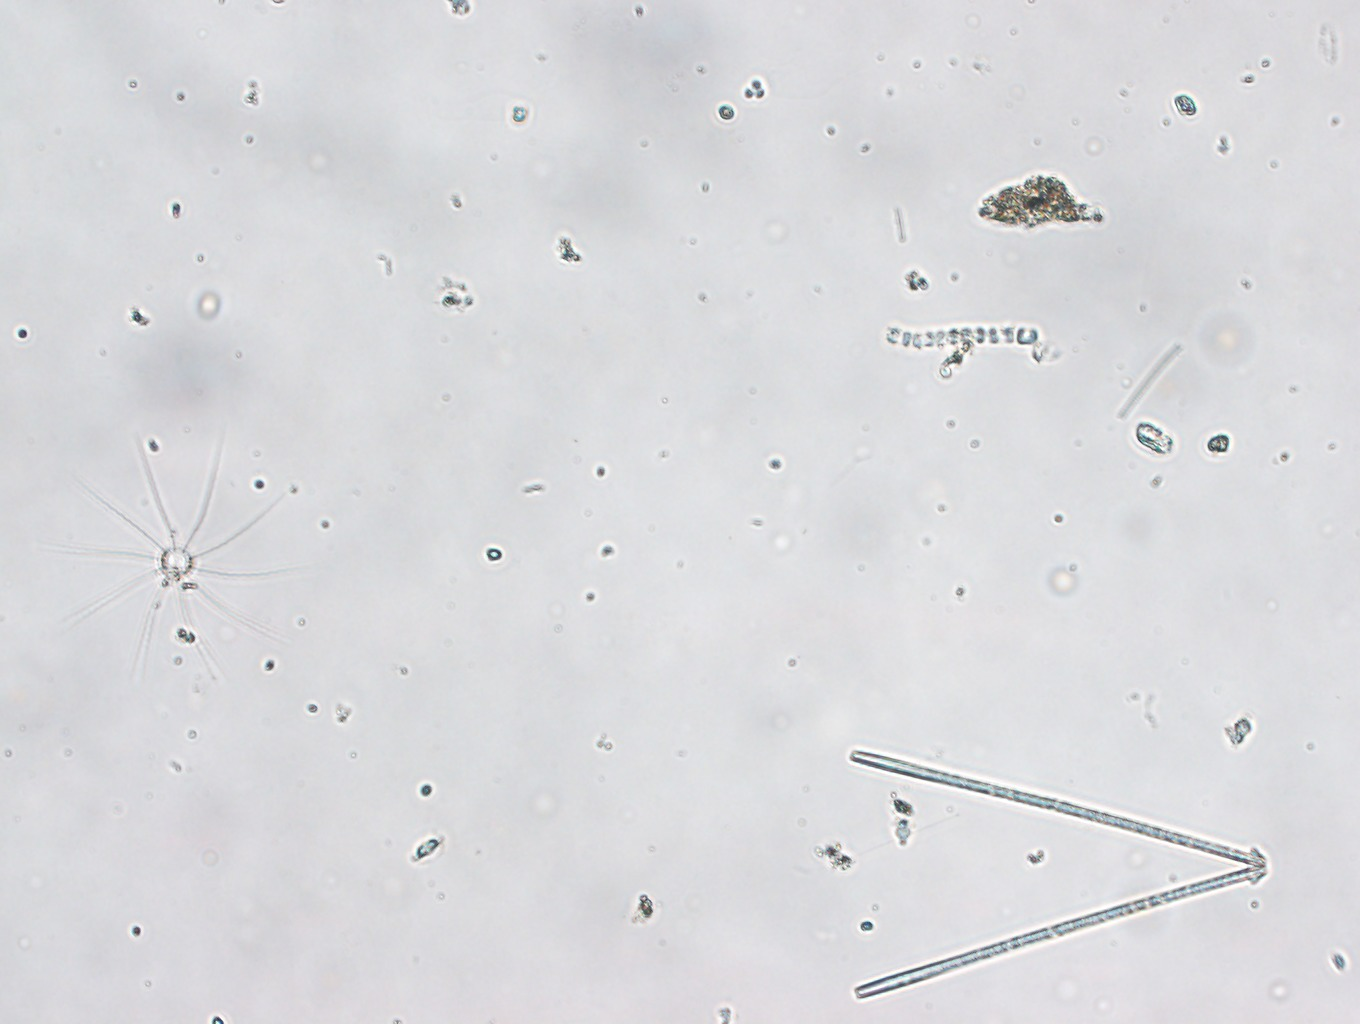bacteriastrum: (71, 431, 296, 665)
skeletonema: (875, 305, 1066, 361)
thalassionema frauenfeldii: (832, 740, 1270, 1005)
